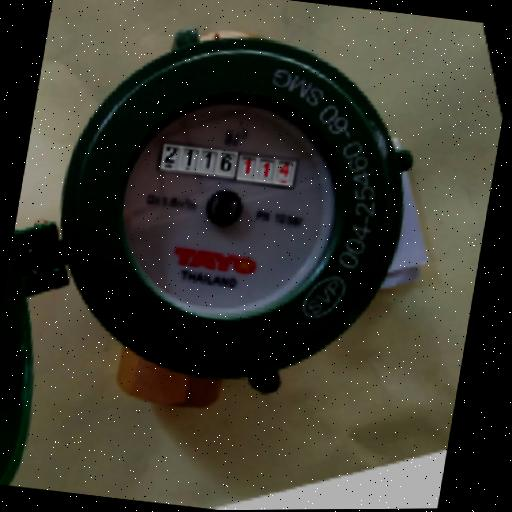1: (180, 148, 197, 171), (257, 158, 274, 181), (198, 150, 215, 172), (239, 156, 255, 178)
2: (162, 146, 179, 169)
4: (275, 161, 292, 184)
6: (218, 152, 235, 175)
border_water_meter_number: (155, 139, 299, 190)
